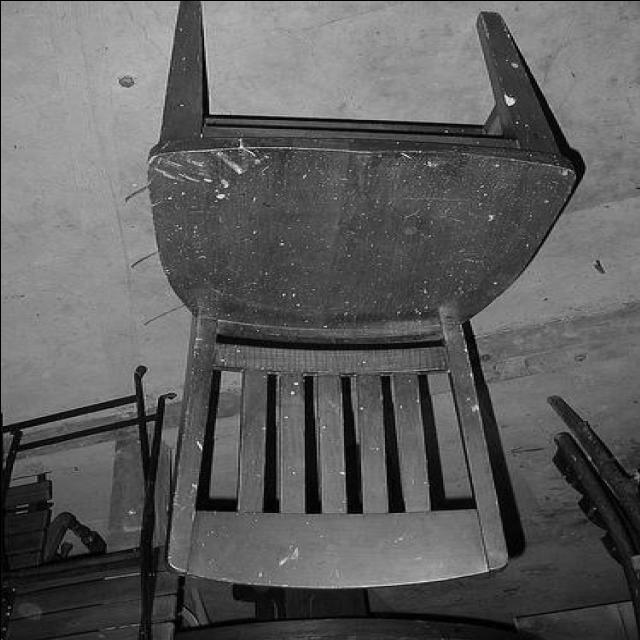chair: (146, 2, 580, 586)
